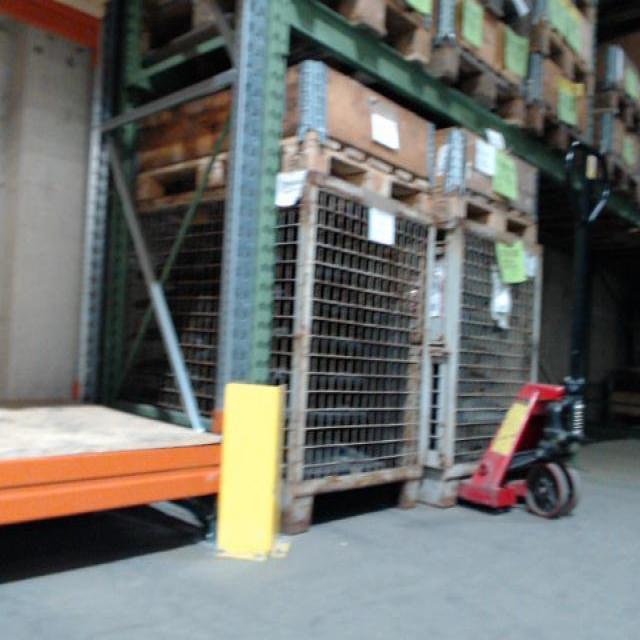pallet: (136, 129, 432, 223), (427, 37, 527, 130), (328, 0, 432, 67), (430, 185, 541, 242), (520, 17, 596, 97), (525, 99, 588, 167), (600, 150, 640, 204), (596, 84, 640, 132)
pallet_truck: (446, 132, 621, 537)
stillage: (104, 183, 442, 547), (415, 218, 558, 521)
